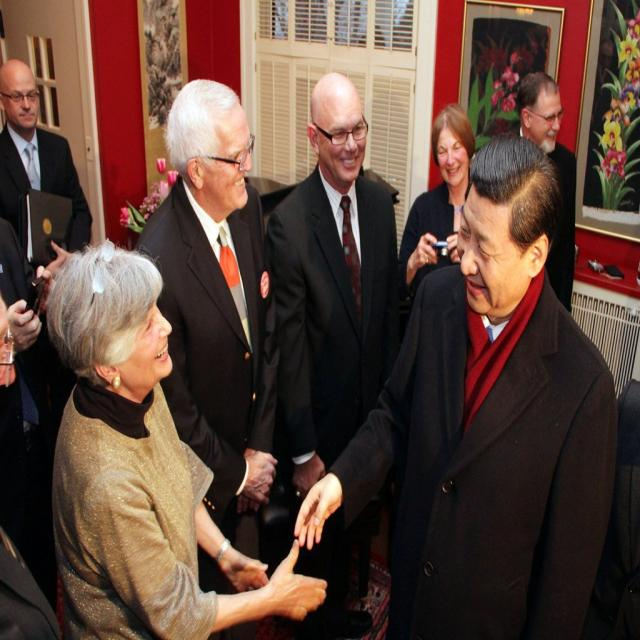body: (291, 132, 619, 639), (45, 238, 329, 640), (131, 76, 281, 640), (262, 70, 403, 507), (0, 54, 95, 281), (0, 218, 48, 639), (507, 67, 579, 316), (395, 99, 479, 309), (489, 39, 534, 106)
